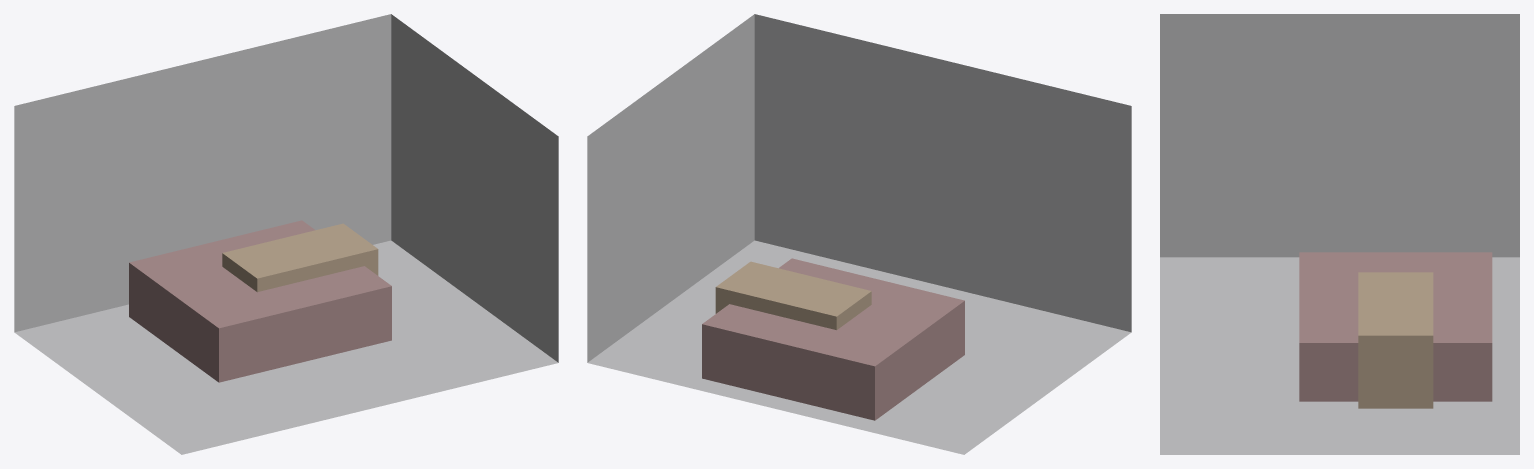
The model's file is optimised_layout.glb.
3 renders of one model, left to right at view 1: azimuth 30°, elevation 25°; view 2: azimuth 150°, elevation 25°; view 3: azimuth 270°, elevation 25°, orthographic. The views are drawn at different scales.
Parts seen in each view (by area): view 1: room, bed, desk; view 2: room, bed, desk; view 3: room, bed, desk.
Part boxes in pixels (x1,y1,x2,y2): room: [14, 14, 558, 454]; bed: [129, 220, 391, 382]; desk: [222, 223, 378, 292]; room: [587, 14, 1131, 454]; bed: [702, 258, 964, 420]; desk: [715, 261, 871, 330]; room: [1160, 14, 1519, 454]; bed: [1299, 252, 1492, 401]; desk: [1358, 272, 1433, 408].
Bounding box in the file's own units: 4.36 × 2.5 × 3.35.
